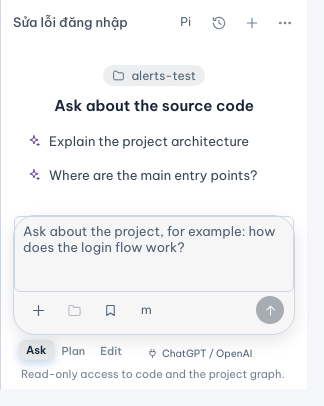
Test: lỗi provider trong chat › MIN-46 M3 EN: câu ngữ cảnh nhỏ dịch theo mẫu, giữ số token
Type "hỏi gì đó" into the text box at [154, 254], box [14,216,294,292]
Then press Enter
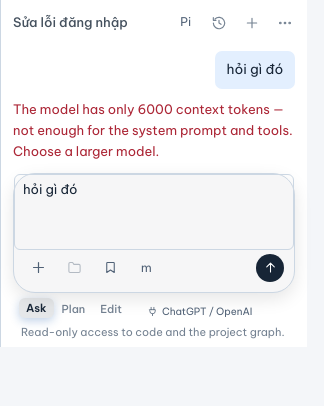
Expected: the button named "Send" is shown, [256,254,284,282]
Result: the text "The model has only 6000 context tokens" is shown at [13,101,293,160]
